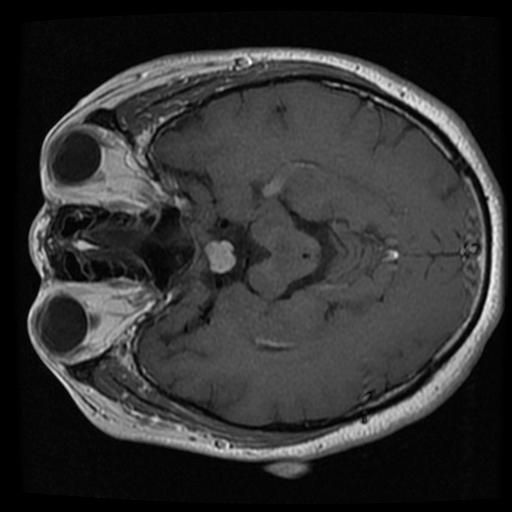pituitary tumour: (203, 239, 237, 274)
